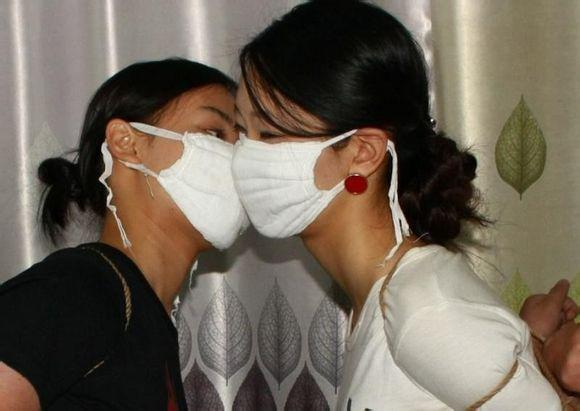OK: (118, 106, 256, 249), (228, 99, 363, 234)
